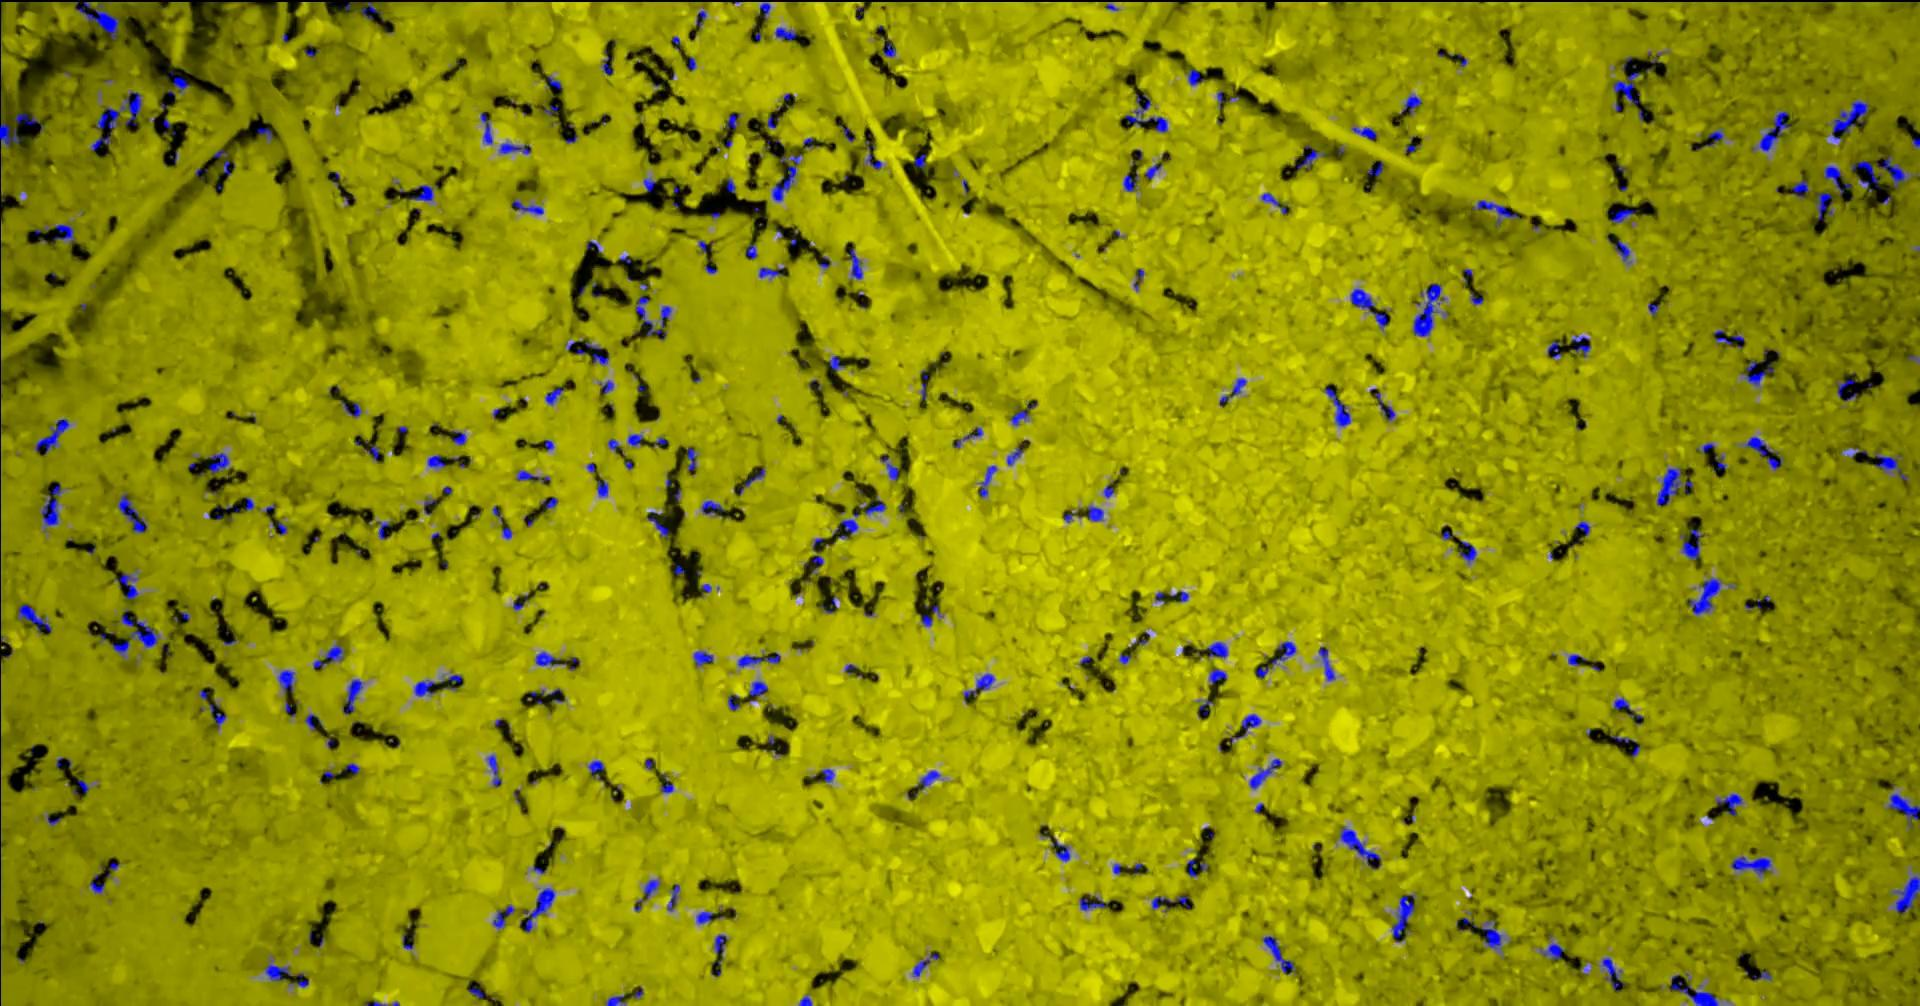ant: (90, 91, 141, 150), (74, 0, 119, 39), (1338, 826, 1380, 868), (1124, 93, 1167, 132), (1412, 283, 1444, 337), (1669, 972, 1718, 1005), (519, 887, 554, 932), (635, 296, 670, 339), (1350, 288, 1387, 329), (119, 608, 157, 647), (771, 154, 801, 201), (1831, 100, 1868, 138), (1656, 467, 1691, 506), (1470, 199, 1519, 227), (1262, 935, 1297, 973), (1759, 111, 1789, 151), (34, 418, 69, 453), (1876, 155, 1911, 188), (1688, 577, 1719, 614), (117, 493, 146, 532), (1390, 894, 1415, 941), (1887, 793, 1919, 828), (1890, 875, 1919, 913), (1611, 64, 1639, 103), (1874, 451, 1909, 480), (1850, 160, 1881, 192), (1324, 387, 1350, 426), (1039, 829, 1069, 861), (17, 605, 51, 633), (963, 673, 994, 702), (1250, 758, 1281, 788), (1730, 855, 1771, 876), (41, 485, 61, 528), (632, 879, 659, 911), (1823, 165, 1851, 194), (1743, 359, 1774, 386), (1613, 697, 1643, 724), (1229, 714, 1260, 741), (1740, 436, 1777, 457), (1679, 528, 1704, 559), (1601, 956, 1623, 991), (1297, 144, 1324, 169), (312, 644, 343, 667), (342, 680, 362, 714), (113, 573, 138, 600), (1010, 401, 1037, 426), (737, 652, 780, 667), (1219, 377, 1246, 401), (1716, 793, 1742, 815), (912, 953, 938, 976), (1712, 329, 1743, 348), (837, 511, 858, 539), (1610, 735, 1639, 756), (1481, 920, 1501, 949), (865, 133, 881, 169), (584, 340, 608, 365), (213, 149, 234, 177), (954, 427, 982, 447), (1375, 391, 1394, 420), (1271, 641, 1295, 664), (491, 904, 514, 929), (1261, 192, 1286, 213), (264, 959, 290, 981), (1318, 647, 1335, 680), (0, 122, 20, 149), (978, 465, 996, 495), (648, 511, 668, 537), (1150, 895, 1189, 909), (413, 680, 444, 696), (1815, 192, 1832, 220), (204, 452, 229, 473), (879, 453, 898, 479), (1399, 94, 1421, 116), (916, 770, 938, 790), (848, 246, 862, 279), (1836, 373, 1855, 398), (512, 199, 543, 213), (535, 652, 566, 666), (488, 754, 502, 786), (208, 702, 225, 729), (169, 71, 190, 91), (409, 184, 437, 199), (53, 224, 75, 243), (863, 495, 885, 514), (748, 680, 767, 701), (1079, 895, 1109, 909), (1613, 239, 1630, 262), (1539, 942, 1563, 959), (361, 0, 381, 19), (1609, 208, 1634, 224), (1571, 335, 1590, 356), (744, 467, 764, 486), (1458, 540, 1476, 561), (516, 470, 549, 481), (1204, 641, 1227, 658), (278, 669, 295, 692), (665, 884, 679, 911), (480, 112, 491, 144), (1704, 127, 1723, 146), (1790, 179, 1810, 198), (1006, 445, 1023, 465), (587, 760, 604, 780), (696, 911, 724, 923), (811, 537, 823, 567), (701, 500, 723, 516), (1351, 126, 1377, 138), (498, 142, 530, 152), (543, 387, 563, 404), (303, 713, 323, 729), (340, 401, 361, 417), (1123, 171, 1138, 191), (110, 640, 130, 655), (443, 674, 462, 690), (89, 873, 104, 892), (714, 934, 726, 956), (288, 973, 309, 987), (602, 50, 613, 74), (15, 113, 39, 124), (1187, 69, 1204, 85), (828, 354, 844, 371), (1197, 699, 1213, 716), (693, 652, 712, 666), (775, 27, 795, 39), (1145, 163, 1161, 179), (1087, 506, 1103, 521), (1209, 668, 1225, 683), (725, 112, 739, 130), (427, 453, 444, 467), (817, 768, 834, 782), (758, 267, 782, 277), (538, 495, 557, 508), (686, 447, 696, 470), (364, 445, 378, 461), (1766, 455, 1783, 469), (883, 38, 895, 56), (660, 775, 673, 793), (919, 370, 927, 399), (1133, 268, 1143, 290), (377, 520, 389, 539), (1752, 969, 1771, 981), (1368, 161, 1382, 177), (1573, 521, 1589, 535), (1547, 340, 1559, 357), (604, 995, 625, 1005), (1567, 654, 1585, 666), (547, 75, 561, 89), (627, 433, 643, 446), (758, 3, 770, 19), (695, 10, 706, 27), (596, 479, 607, 495), (728, 694, 739, 710), (257, 127, 270, 140), (599, 380, 613, 392), (452, 431, 465, 445), (607, 438, 621, 451), (913, 152, 924, 168), (745, 244, 757, 259), (1187, 857, 1196, 876), (643, 178, 655, 191), (1713, 455, 1726, 467), (1255, 666, 1269, 677), (1103, 480, 1112, 497)
